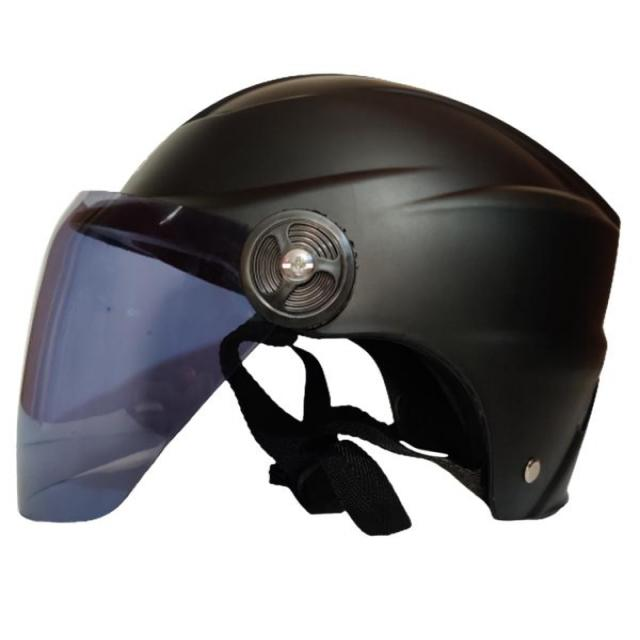Helmet: (13, 69, 616, 551)
